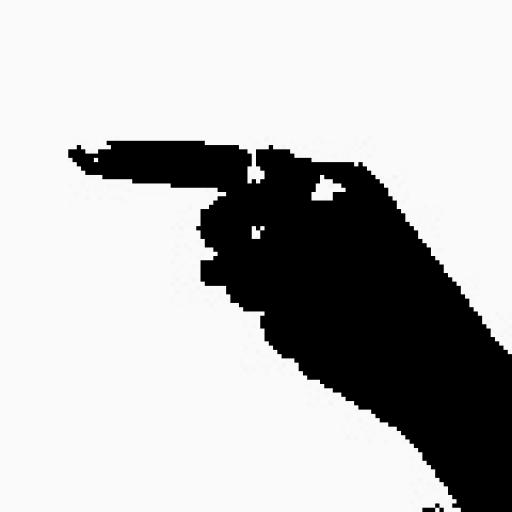index_right: (67, 138, 512, 348)
